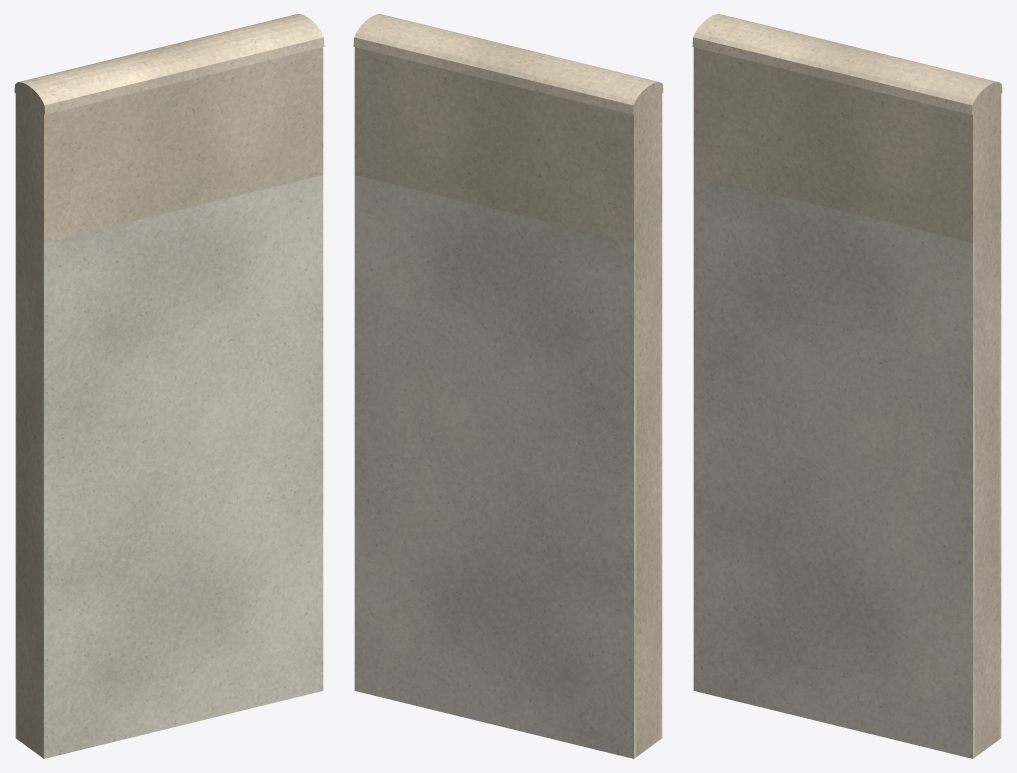
The model's file is party_wall_end.glb.
3 renders of one model, left to right at view 1: azimuth 30°, elevation 25°; view 2: azimuth 150°, elevation 25°; view 3: azimuth 330°, elevation 25°, orthographic.
Visible parts, largest first — view 1: party_wall_end_plaster, party_wall_end_render; view 2: party_wall_end_plaster, party_wall_end_render; view 3: party_wall_end_plaster, party_wall_end_render.
Part boxes in pixels (bbox=[...]): party_wall_end_plaster: bbox=[15, 175, 323, 758]; party_wall_end_render: bbox=[14, 14, 324, 756]; party_wall_end_plaster: bbox=[354, 175, 662, 758]; party_wall_end_render: bbox=[353, 14, 663, 756]; party_wall_end_plaster: bbox=[693, 175, 1001, 758]; party_wall_end_render: bbox=[692, 14, 1002, 756].
Bounding box in the file's own units: 1.7 × 3.85 × 0.324.
2 materials, 2 textured.
